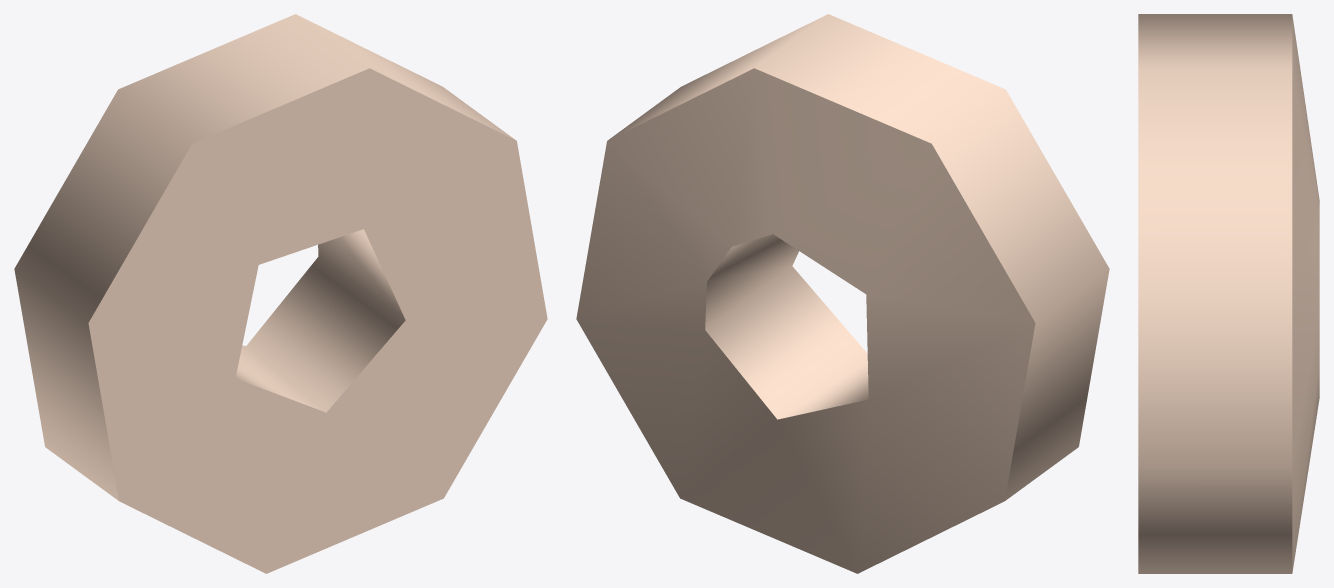
The model's file is Ecrou_Premiere de sonnerie.obj.
3 renders of one model, left to right at view 1: azimuth 30°, elevation 25°; view 2: azimuth 150°, elevation 25°; view 3: azimuth 270°, elevation 25°, orthographic. The views are drawn at different scales.
Parts seen in each view (by area): view 1: Face_1, Face_2, Face_4; view 2: Face_3, Face_2, Face_4; view 3: Face_2, Face_3.
Boxes of the visible parts, <box> form: Face_1: <box>88,68,547,573</box>; Face_2: <box>14,14,515,500</box>; Face_4: <box>235,229,405,412</box>; Face_3: <box>576,68,1035,573</box>; Face_2: <box>608,14,1109,500</box>; Face_4: <box>705,234,868,419</box>; Face_2: <box>1138,14,1292,573</box>; Face_3: <box>1292,15,1319,572</box>.
Size of the model in its own units: 0.0107 by 0.0107 by 0.00353.
